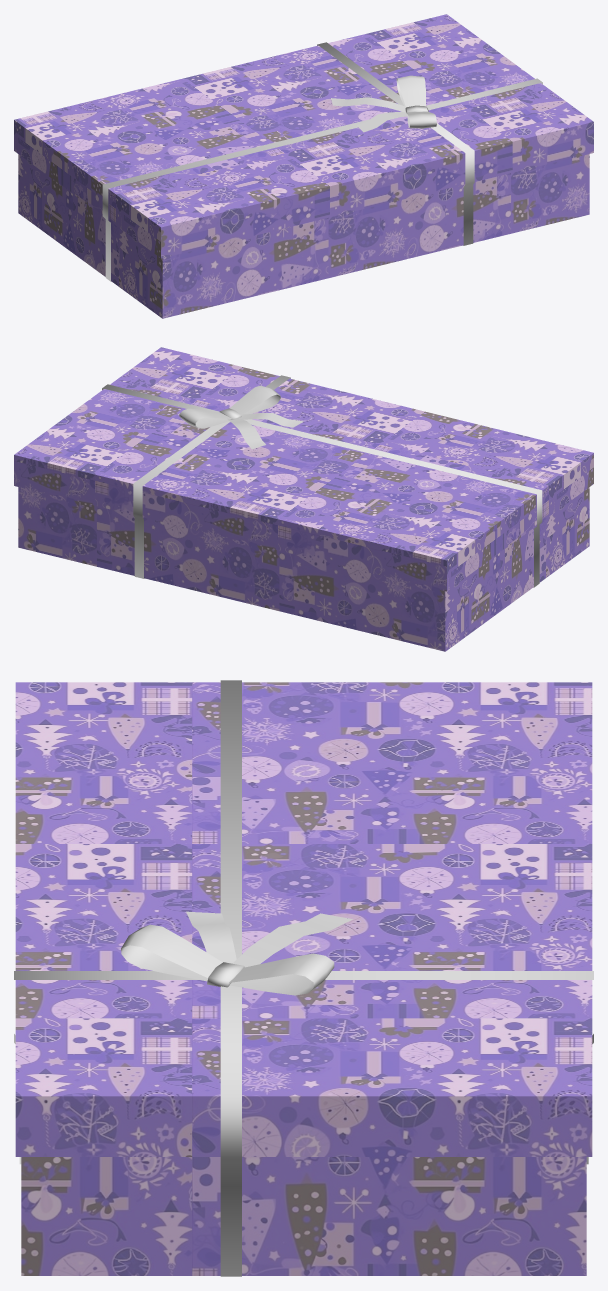
The model's file is present_07.fbx.
3 renders of one model, top to bottom at view 1: azimuth 30°, elevation 25°; view 2: azimuth 150°, elevation 25°; view 3: azimuth 270°, elevation 25°, orthographic. The views are drawn at different scales.
Parts seen in each view (by area): view 1: present_07; view 2: present_07; view 3: present_07.
Part boxes in pixels (x1=…): present_07: x1=14, y1=14, x2=593, y2=318; present_07: x1=14, y1=347, x2=593, y2=651; present_07: x1=14, y1=680, x2=593, y2=1276.
Size of the model in its own units: 2.01 by 0.4816 by 1.18.
